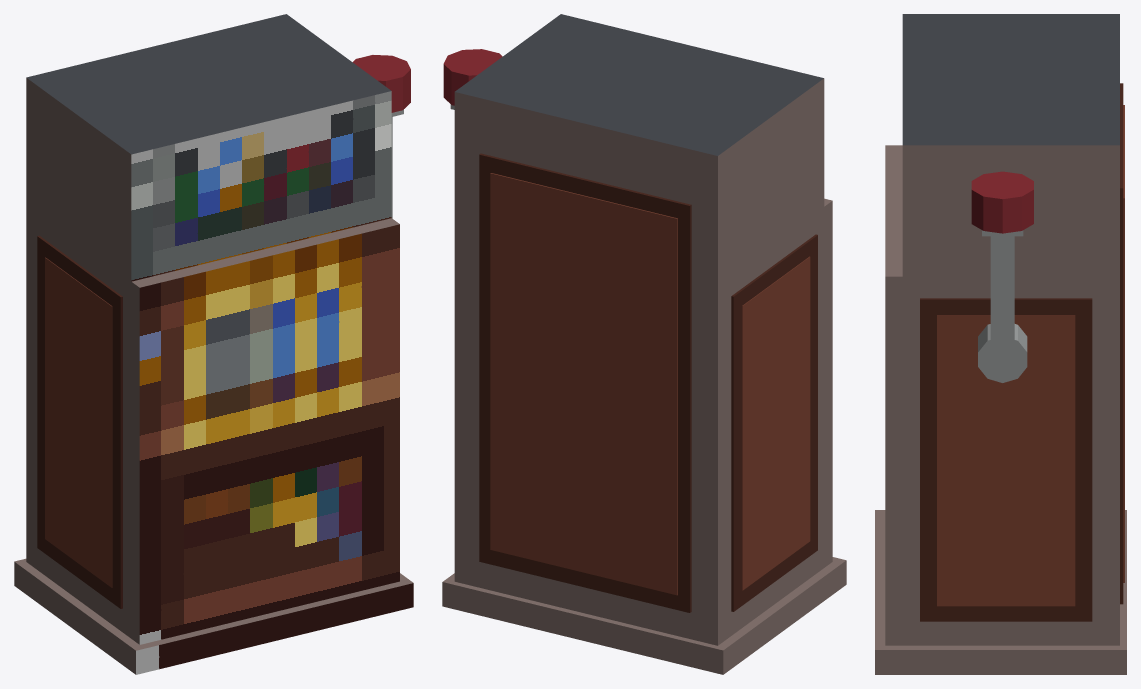
File: slot_machine_broken.glb
3 renders of one model, left to right at view 1: azimuth 30°, elevation 25°; view 2: azimuth 150°, elevation 25°; view 3: azimuth 270°, elevation 25°, orthographic. The views are drawn at different scales.
Parts seen in each view (by area): view 1: Slot_Cabinet, Lever_Knob; view 2: Slot_Cabinet, Lever_Knob; view 3: Slot_Cabinet, Lever_Knob, Lever.
Part boxes in pixels (left/top/right/bottom): Slot_Cabinet: left=14, top=14, right=413, bottom=674; Lever_Knob: left=352, top=55, right=410, bottom=112; Slot_Cabinet: left=442, top=14, right=846, bottom=674; Lever_Knob: left=443, top=49, right=502, bottom=105; Slot_Cabinet: left=875, top=14, right=1126, bottom=674; Lever_Knob: left=971, top=171, right=1033, bottom=233; Lever: left=982, top=230, right=1023, bottom=363.
Bounding box in the file's own units: 1.15 × 1.68 × 0.73.
1 material, 1 textured.
